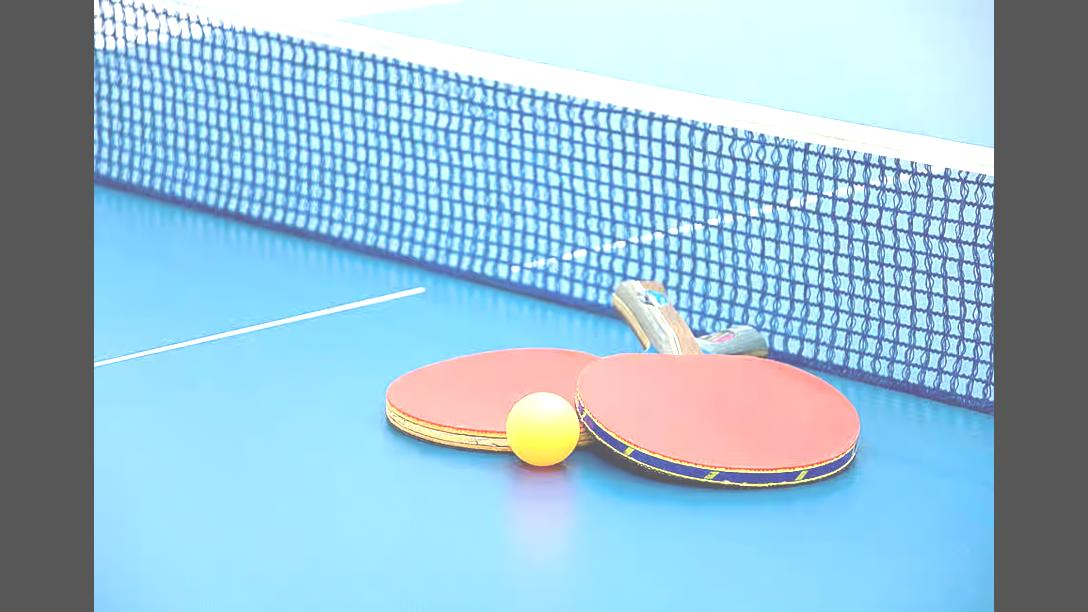Table-Tennis-Ball: (508, 391, 580, 465)
